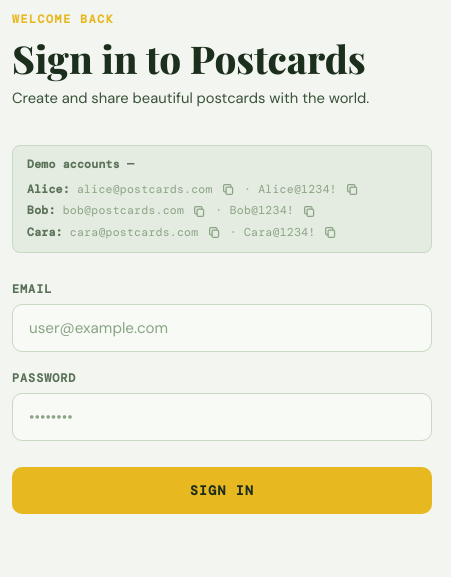
Test: LoginForm › shows validation errors when submitting empty form
Click the button "Sign In": click(222, 490) [12,467,432,514]
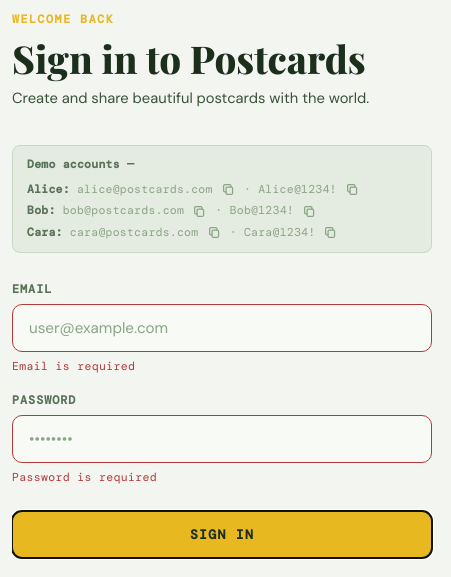
Now the text "Email is required" is shown, box [12,359,135,374]
Now the text "Password is required" is shown, box [12,470,157,485]
